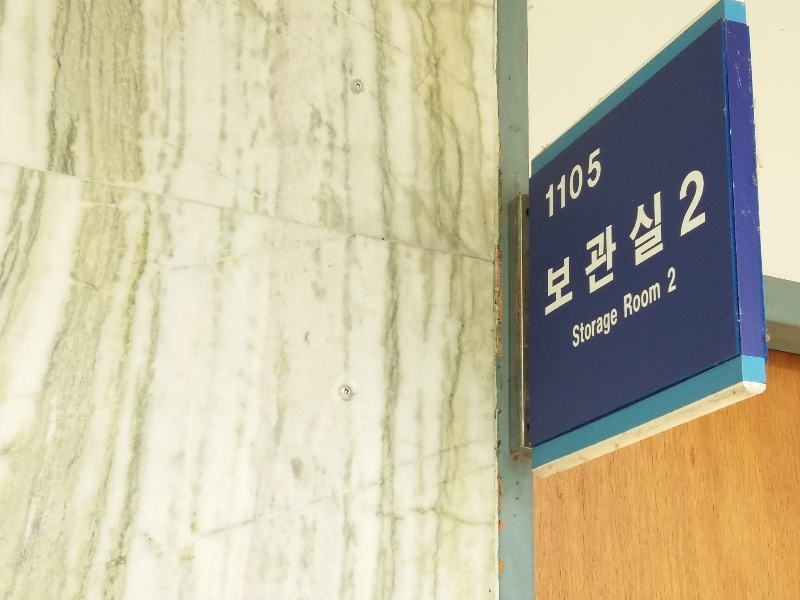text: (561, 161, 576, 324), (577, 161, 592, 324), (593, 161, 608, 324), (609, 161, 624, 324), (625, 161, 640, 324), (641, 161, 656, 324), (657, 161, 672, 324), (673, 161, 688, 324), (689, 161, 704, 324), (547, 161, 560, 324), (561, 143, 576, 225), (577, 143, 592, 225), (546, 143, 560, 225), (593, 143, 602, 225), (577, 306, 592, 352), (593, 306, 608, 352), (705, 161, 709, 324), (625, 281, 640, 322), (641, 281, 656, 322), (609, 306, 619, 352), (657, 281, 662, 322), (572, 306, 576, 352), (667, 265, 672, 296), (673, 265, 677, 296), (622, 281, 624, 322)
